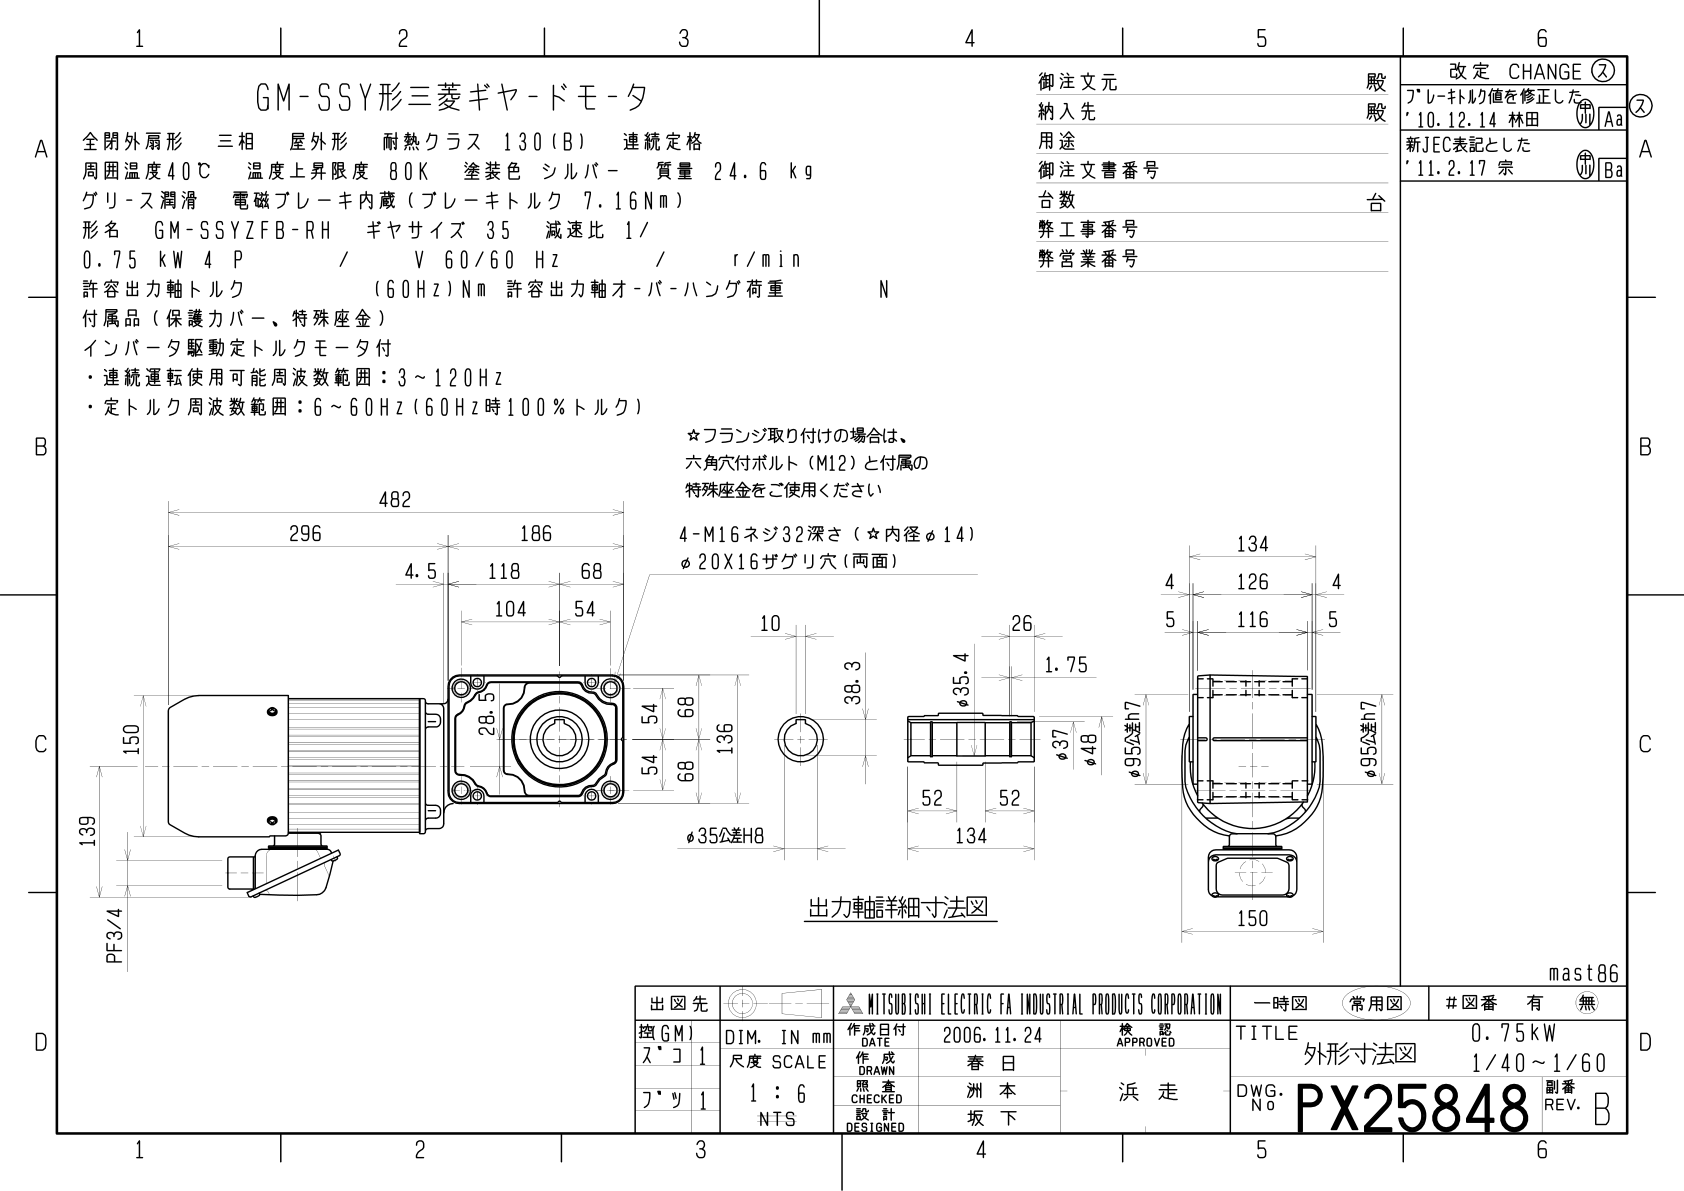GM_SSY_インバータ屋外_三相: (67, 433, 1389, 978)
